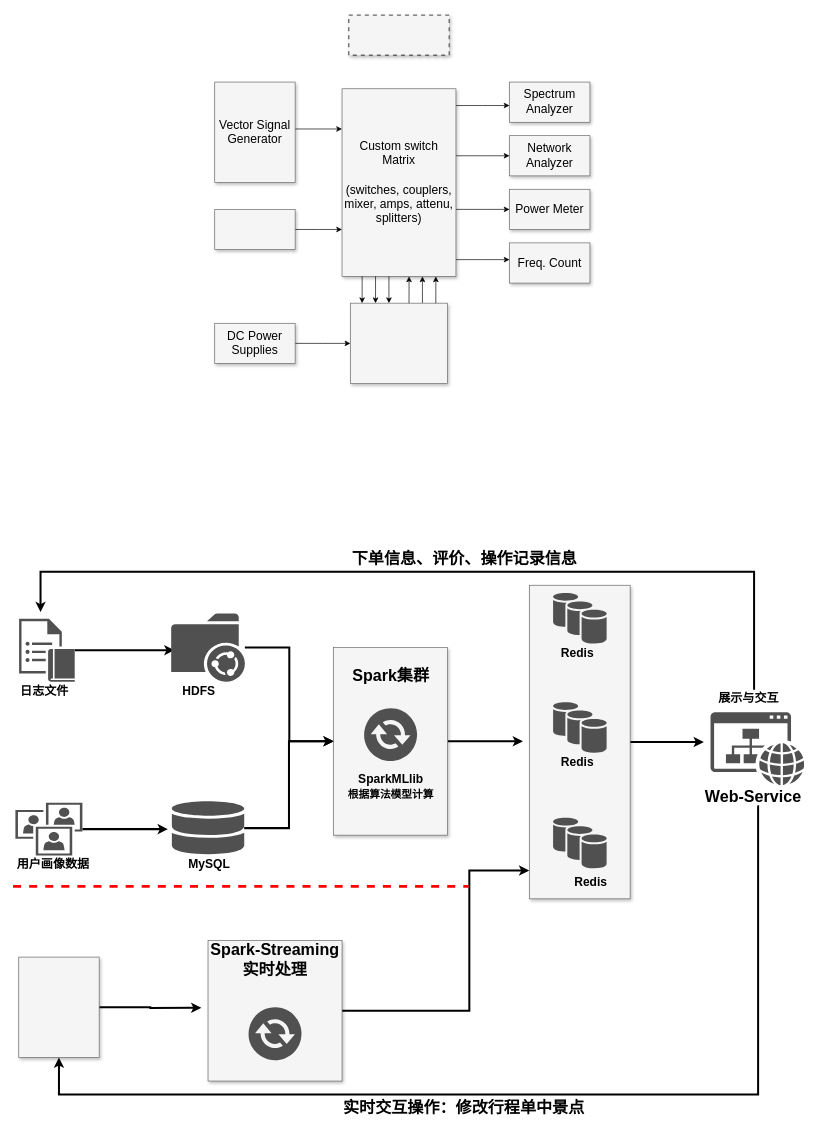
Some shapes in this 822 by 1129 pixel diagram are drawn without their labels. Each missing label, with the centre of its shape:
"ARB / Mod Source" goes at pixel 255 230.
"DUT" goes at pixel 399 344.
"Kafka 消息中间件" goes at pixel 59 1008.
"Software Control" goes at pixel 399 35.
